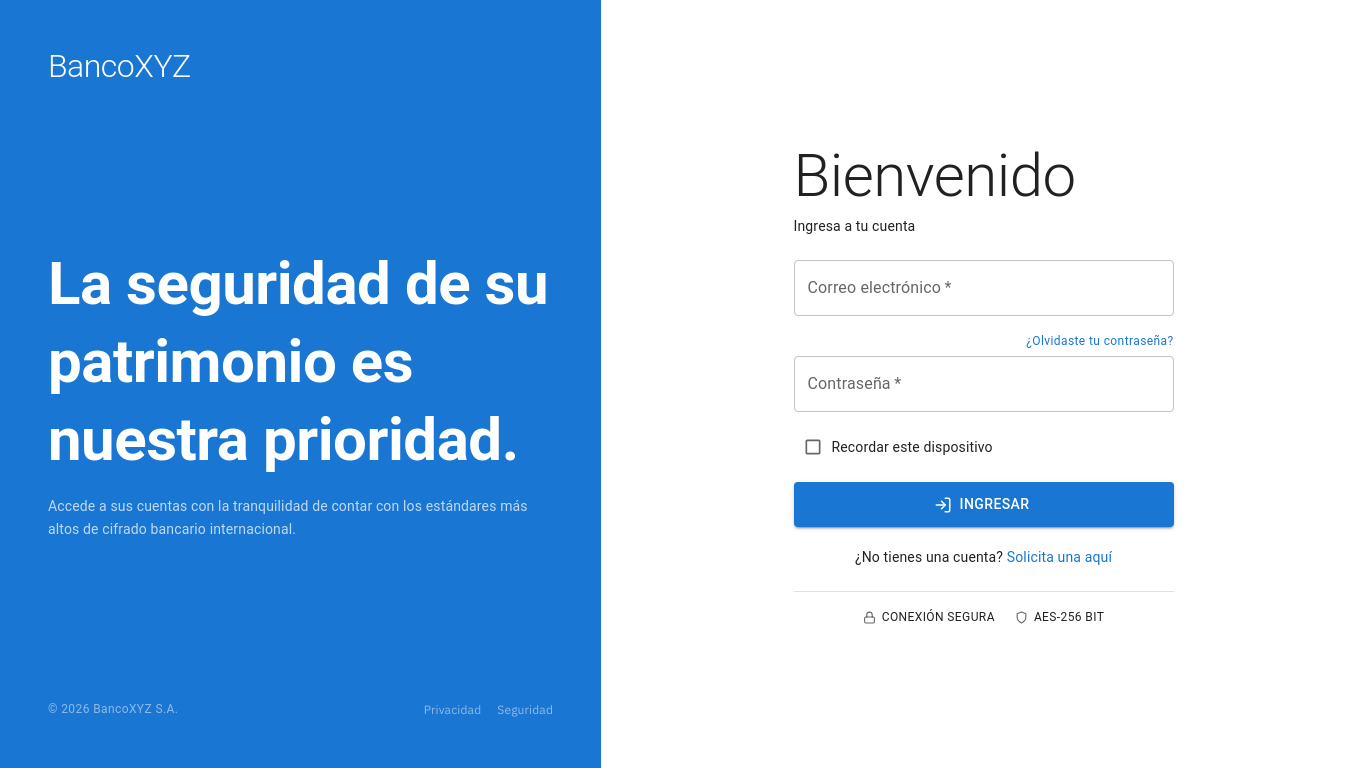
Scenario: LoginPage › muestra error de validación si email es inválido
Type "notanemail" into the field labelled "Correo electrónico *" at (984, 288), box [794,260,1174,316]
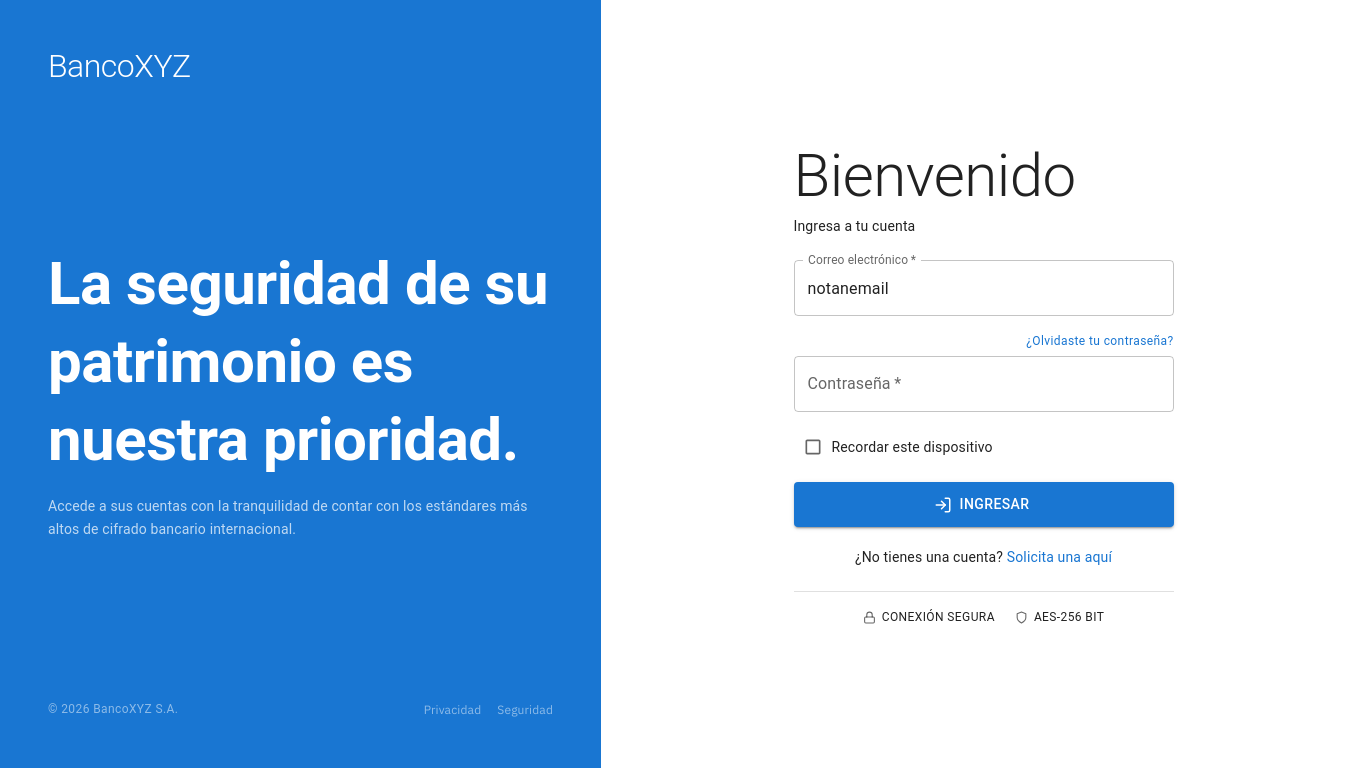
Click the button "Ingresar" at (984, 505), box [794,482,1174,527]
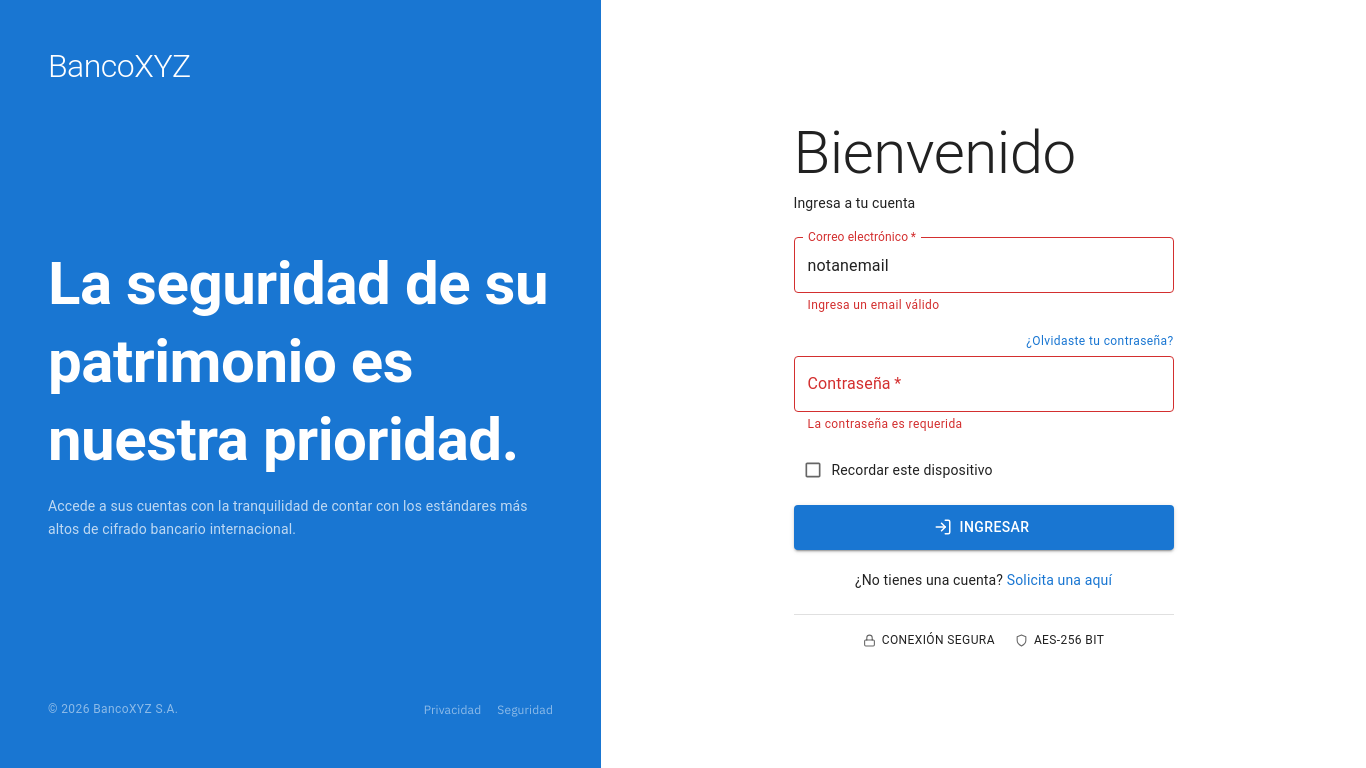
Now the text "Ingresa un email válido" is shown, box [808,298,940,312]
